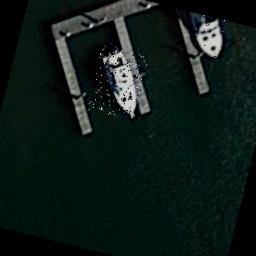boat: (86, 44, 150, 120), (183, 12, 231, 60)
